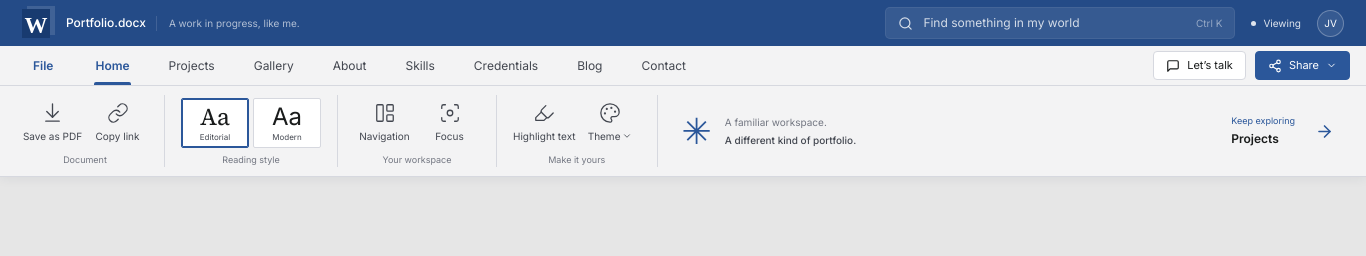
Scenario: Nav › closes the File menu with Escape
Step 1. Click the button "File" → (43, 66), box x1=16 y1=46 x2=70 y2=85
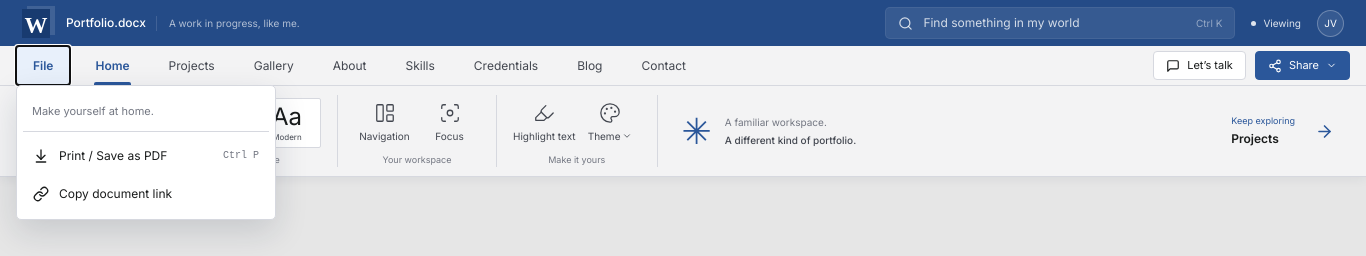
Expected: the menu is shown, x1=16 y1=85 x2=276 y2=220
Step 2. Press Escape
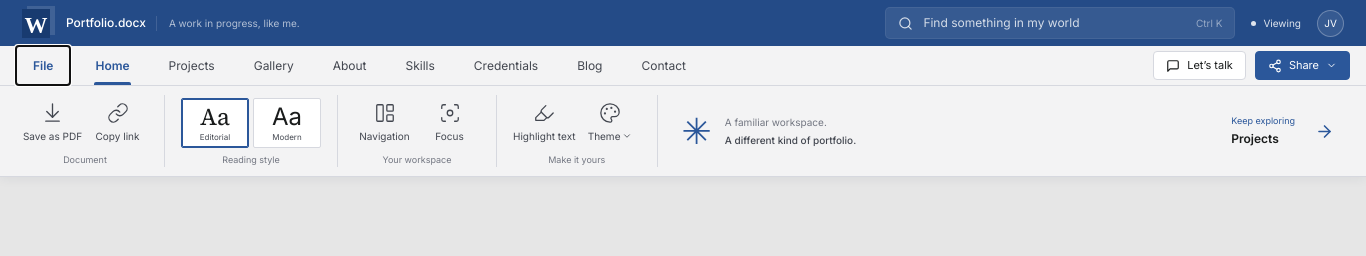
Expected: the menu is gone
